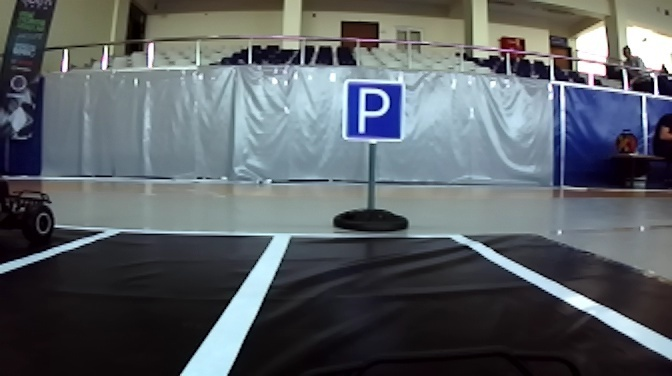park: (342, 79, 403, 138)
